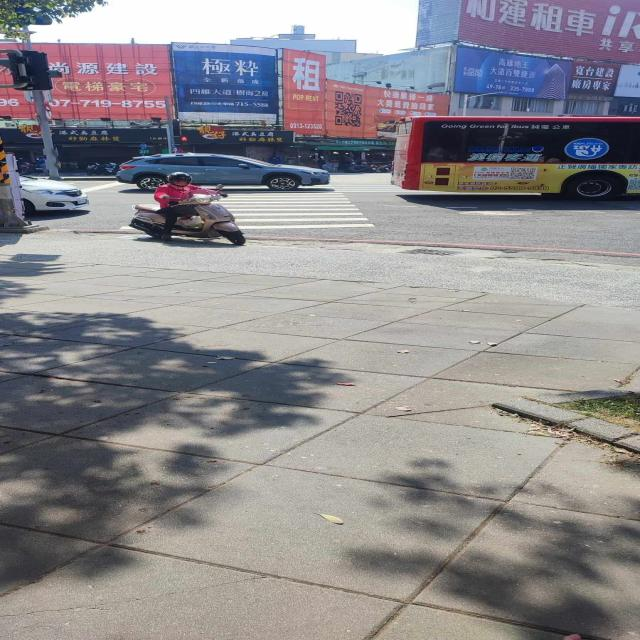person: (156, 172, 203, 241)
zebra crossing: (221, 185, 377, 230)
